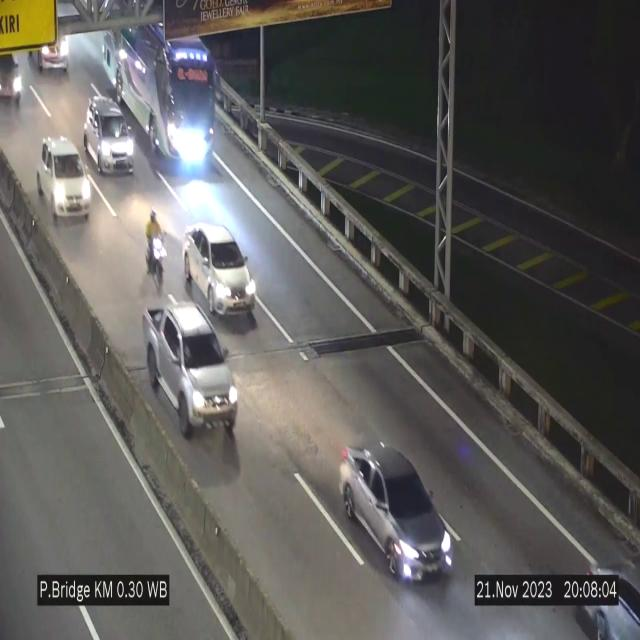Bus: (101, 23, 215, 181)
Car: (339, 446, 453, 582), (144, 304, 238, 436), (184, 226, 256, 317), (40, 132, 94, 226), (84, 96, 135, 174)
Motorcycle: (146, 202, 164, 282)
